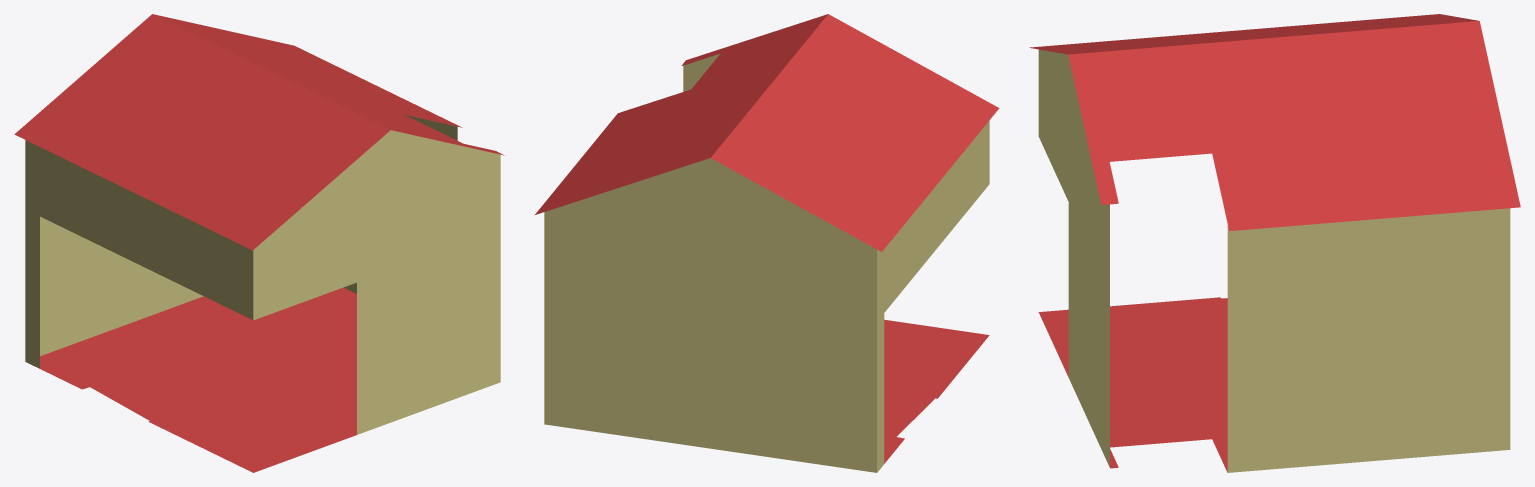
The picture shows the model from 3 angles, left to right: view 1: azimuth 30°, elevation 25°; view 2: azimuth 150°, elevation 25°; view 3: azimuth 270°, elevation 25°; orthographic projection. The views are drawn at different scales.
Bounding box in the file's own units: 13.34 × 13.81 × 10.58.
